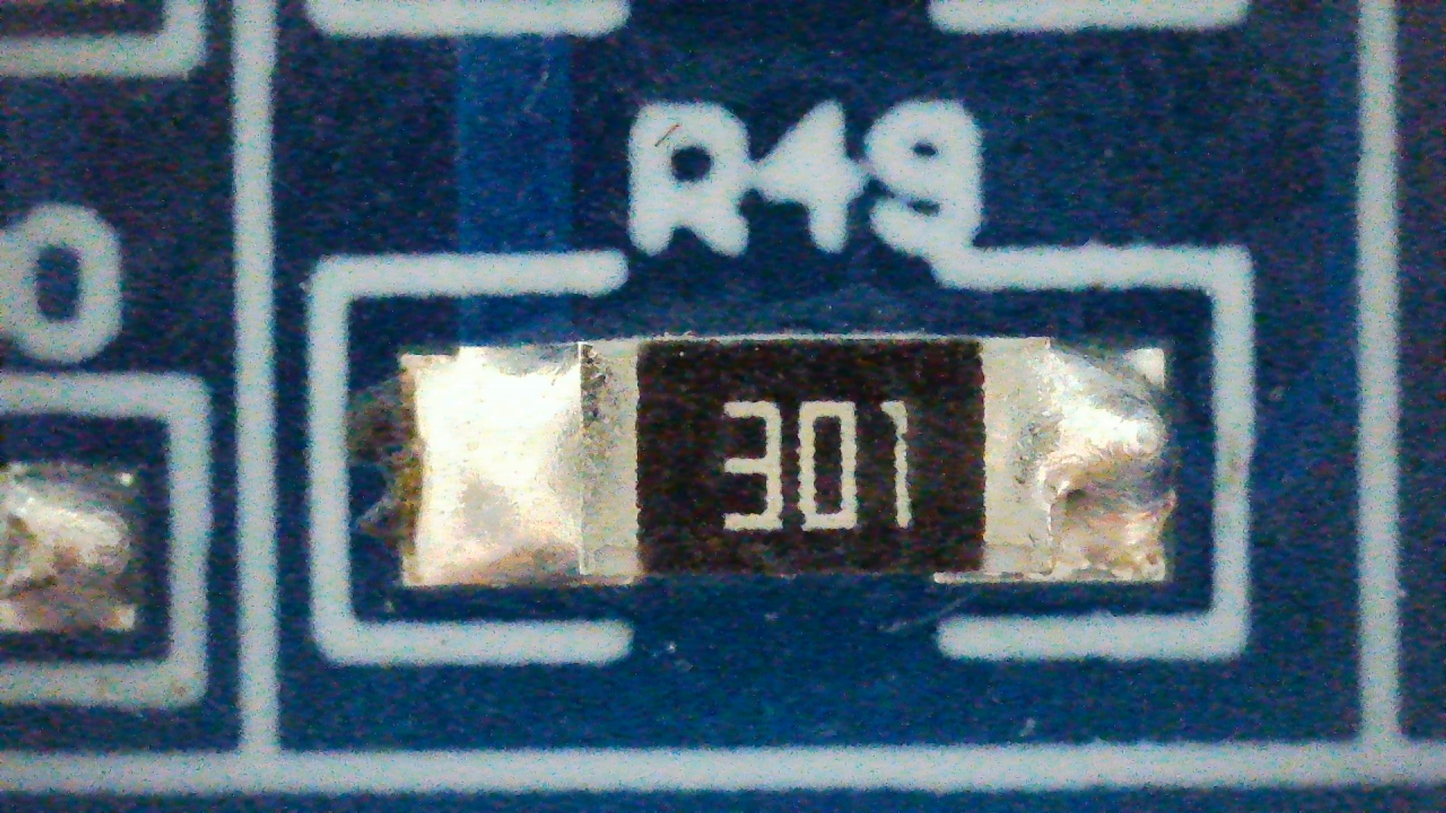OK: (402, 335, 1174, 587)
